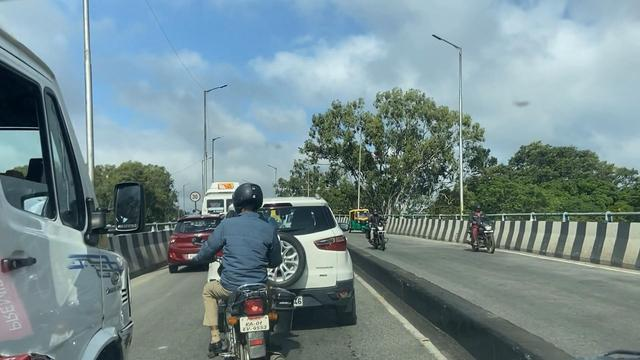LMV: (208, 184, 299, 360)
